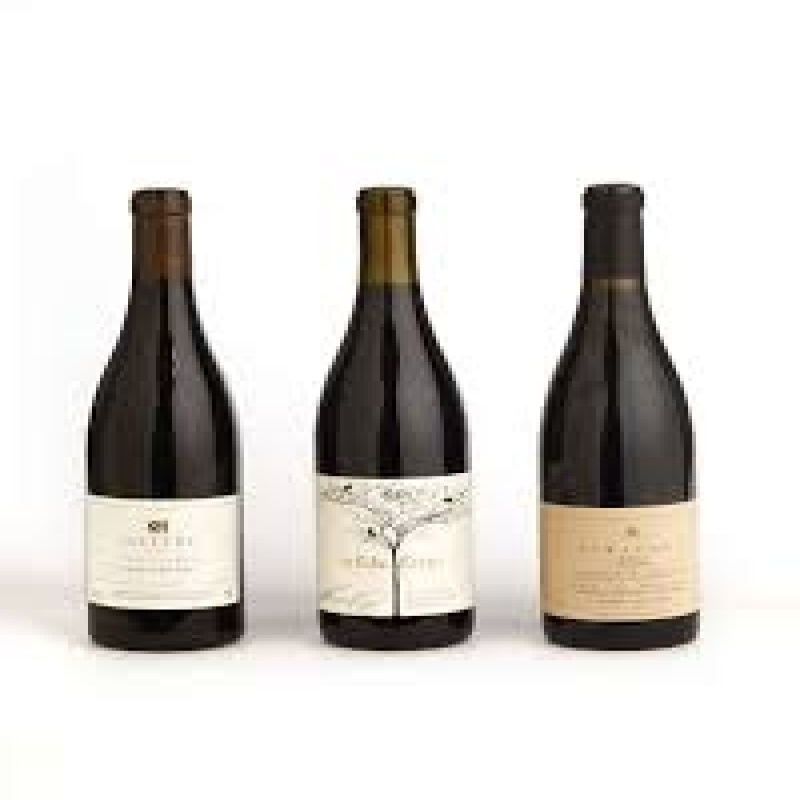wine: (71, 193, 253, 637), (543, 185, 710, 650), (320, 186, 476, 646)
